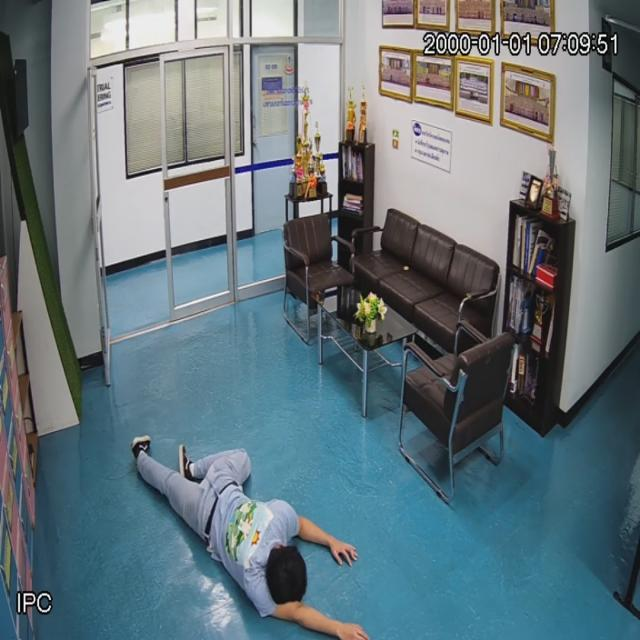fall: (136, 443, 356, 640)
